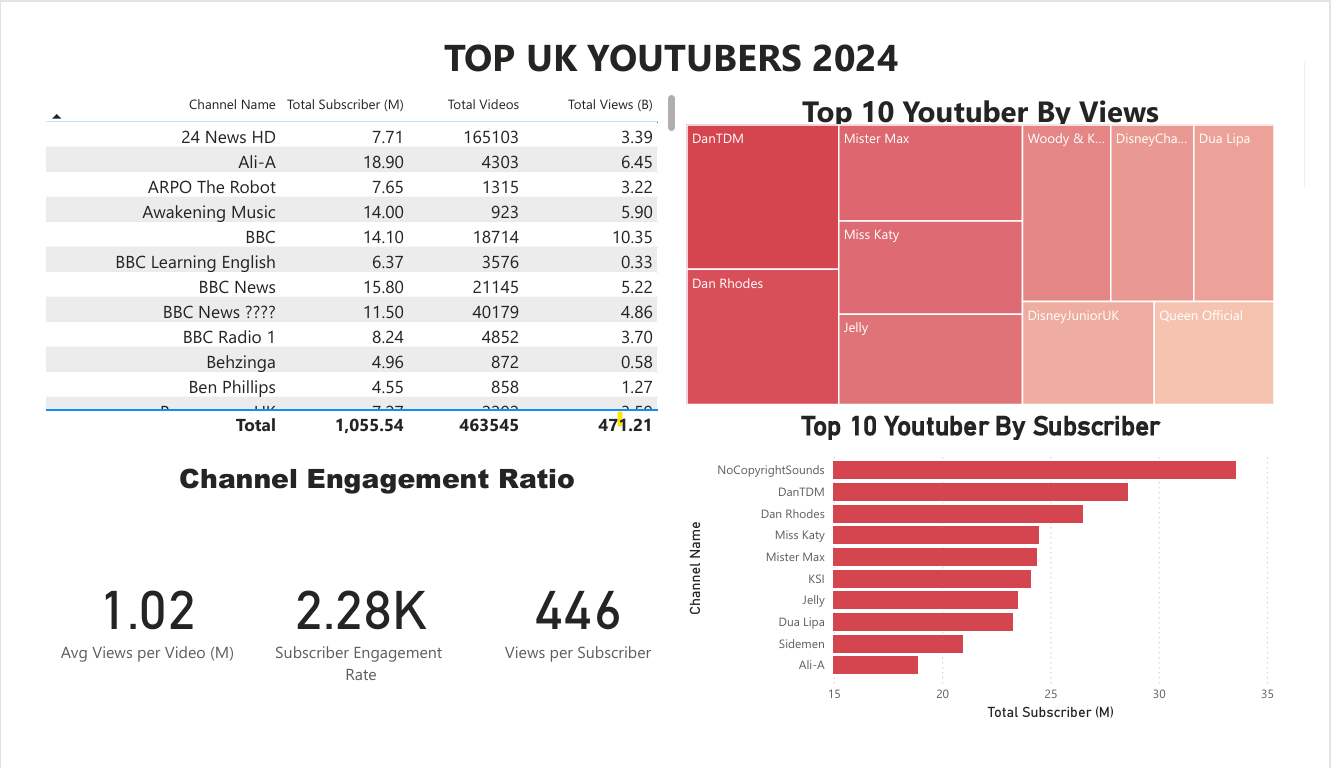

What the dashboard file says about the page in this screenshot:
{"tool":"powerbi","page":{"name":"Page 1","canvas":[1280,720],"ordinal":0},"visuals":[{"type":"textbox","box":[362.1,0,567.7,63.7],"z":0},{"type":"tableEx","fields":{"Values":["view_uk_youtubers_2024.channel_name","view_uk_youtubers_2024.Total Subscriber (M)","view_uk_youtubers_2024.Total Videos","view_uk_youtubers_2024.Total Views (B)"]},"box":[16.5,63.1,639.5,351.3],"z":1000},{"type":"treemap","title":"Top 10 Youtuber By Views","fields":{"Group":["view_uk_youtubers_2024.channel_name"],"Values":["view_uk_youtubers_2024.Total Views (B)"]},"box":[657.3,64.5,596.9,319.7],"z":2000},{"type":"card","fields":{"Values":["view_uk_youtubers_2024.Avg Views per Video (M)"]},"box":[16.5,474.8,212.7,225],"z":3000},{"type":"card","fields":{"Values":["view_uk_youtubers_2024.Subscriber Engagement Rate"]},"box":[233.3,474.8,205.8,225],"z":4000},{"type":"card","fields":{"Values":["view_uk_youtubers_2024.Views per Subscriber"]},"box":[450.1,474.8,205.8,225],"z":5000},{"type":"clusteredBarChart","title":"Top 10 Youtuber By Subscriber","fields":{"Category":["view_uk_youtubers_2024.channel_name"],"Y":["view_uk_youtubers_2024.Total Subscriber (M)"]},"box":[657.3,384.2,596.9,315.6],"z":6000},{"type":"textbox","box":[30.2,428.1,643.6,46.7],"z":7000}]}

Visuals, with their boxes in screenshot pixels (x1, y1, x2, y2), scaled from the page's 1280x720 canvas onto the 1331x768 screenshot:
textbox: (377, 0, 967, 68)
tableEx - view_uk_youtubers_2024.channel_name x view_uk_youtubers_2024.Total Subscriber (M): (17, 67, 682, 442)
"Top 10 Youtuber By Views" treemap: (683, 69, 1304, 410)
card - view_uk_youtubers_2024.Avg Views per Video (M): (17, 506, 238, 746)
card - view_uk_youtubers_2024.Subscriber Engagement Rate: (243, 506, 457, 746)
card - view_uk_youtubers_2024.Views per Subscriber: (468, 506, 682, 746)
"Top 10 Youtuber By Subscriber" clusteredBarChart: (683, 410, 1304, 746)
textbox: (31, 457, 701, 506)
